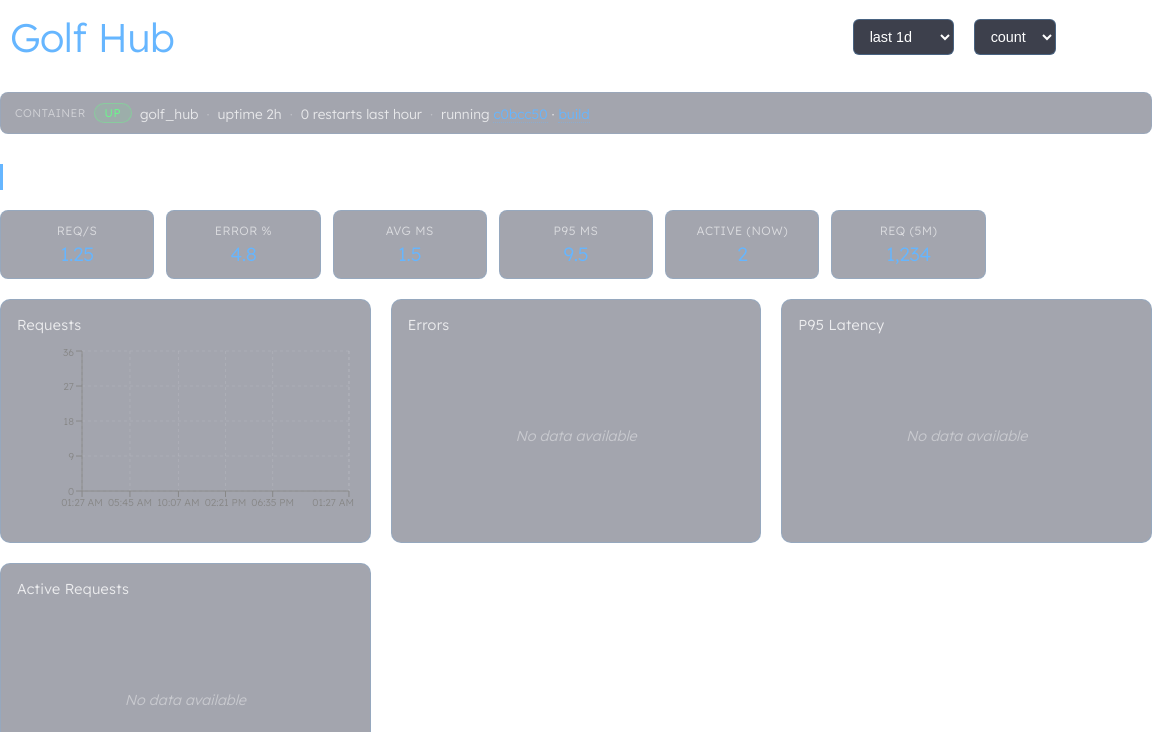
it: ServiceDashboard › switches the Serving chart between request_count and request_rate
Expected: the heading "Requests" is shown, [17,316,82,334]
Expected: the text "Request Rate" is not shown
Step 1. Select "rate" in the dropdown named "Counter view" → (1015, 37), box [974,19,1056,55]
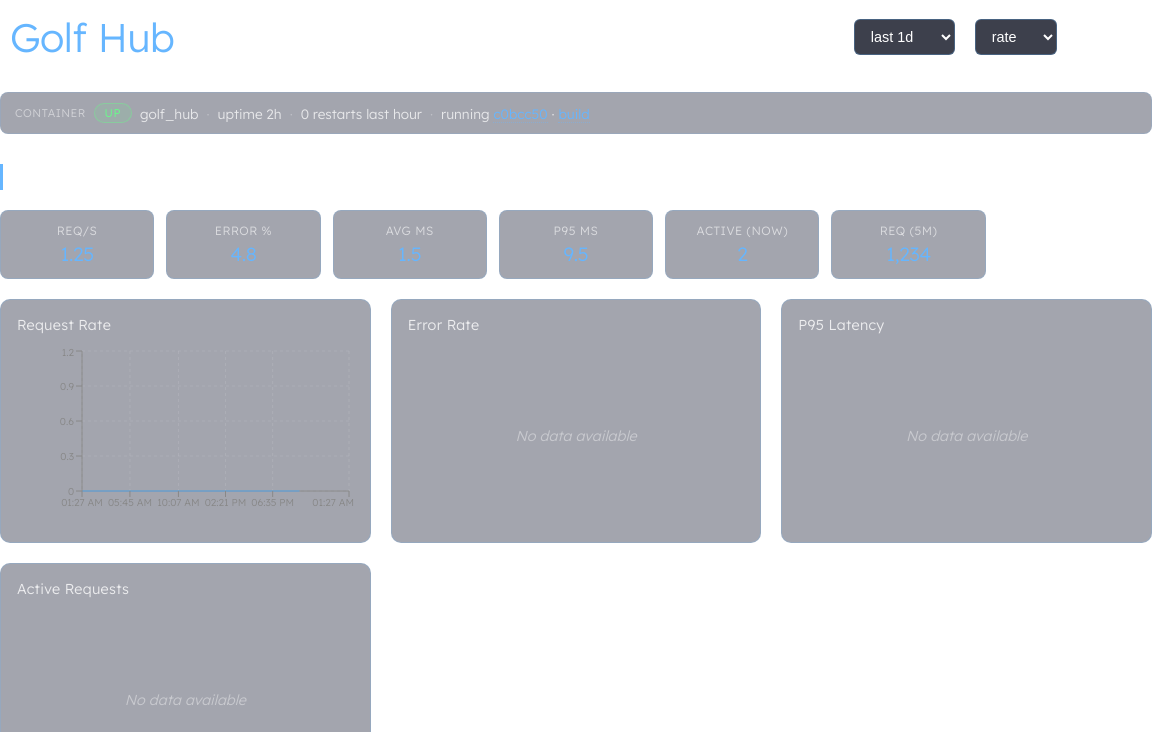
Expected: the heading "Request Rate" is shown, [17,316,111,334]
